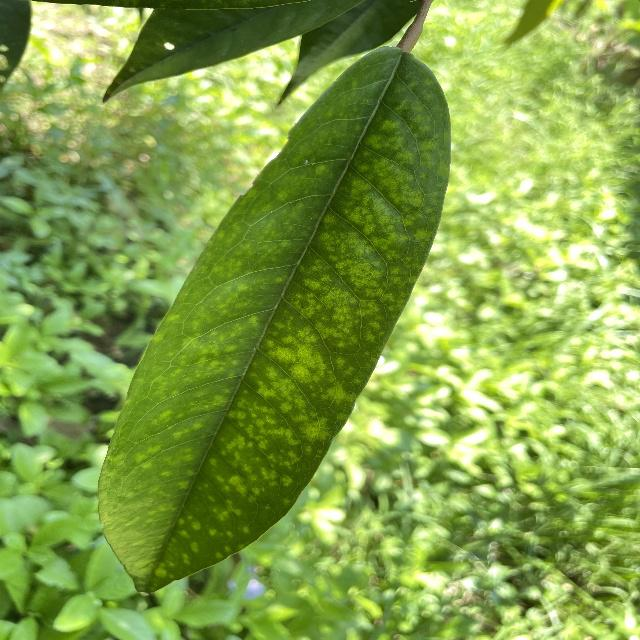Leaf Spot: (95, 45, 457, 588)
